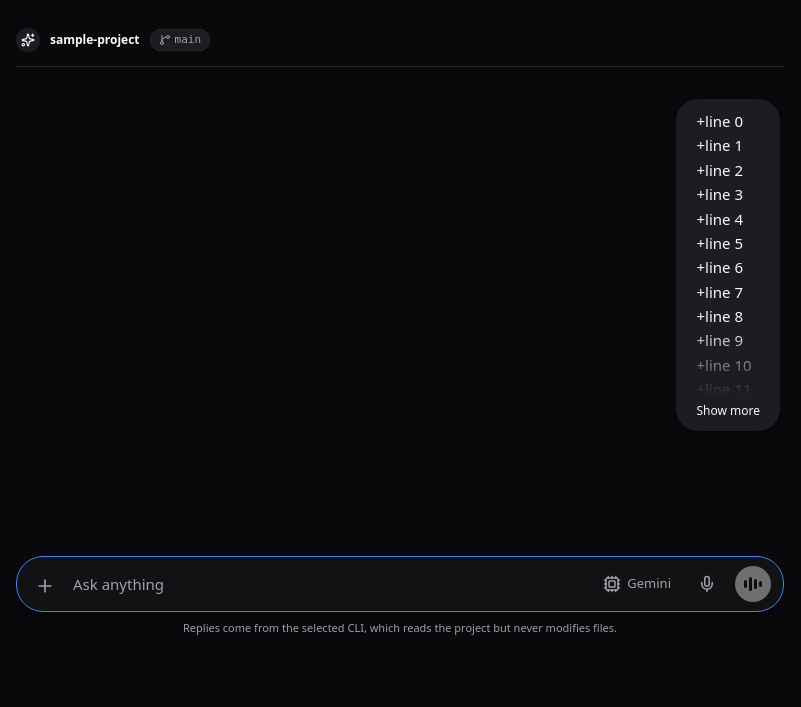
Scenario: AIThreadStartHero › collapses long user messages until expanded
This screenshot has width=801, height=707.
Click the button "Show more". click: x=728, y=411
box: [696,403,760,419]
(page scrolled)
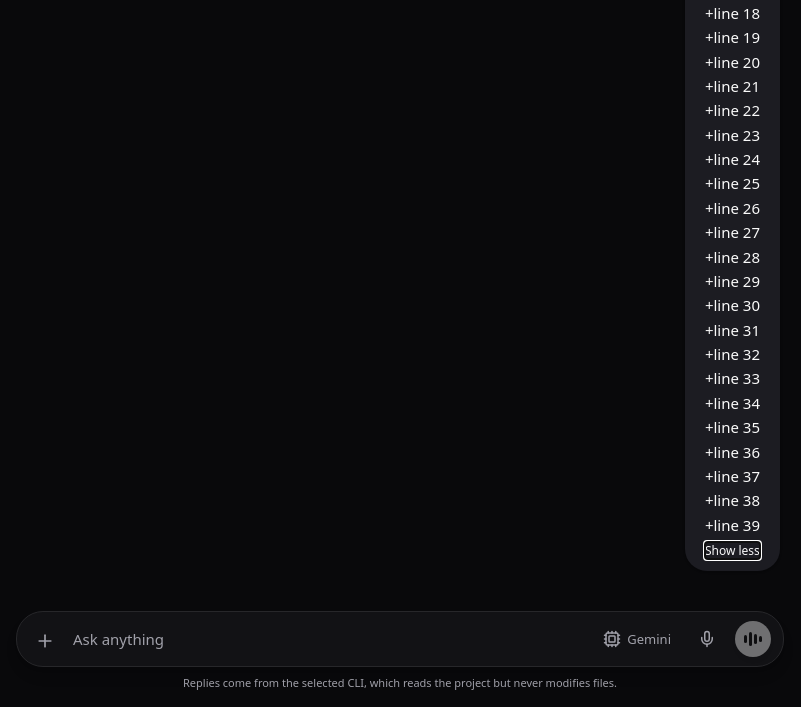
Result: the button "Show less" is shown at [705,543,760,559]
